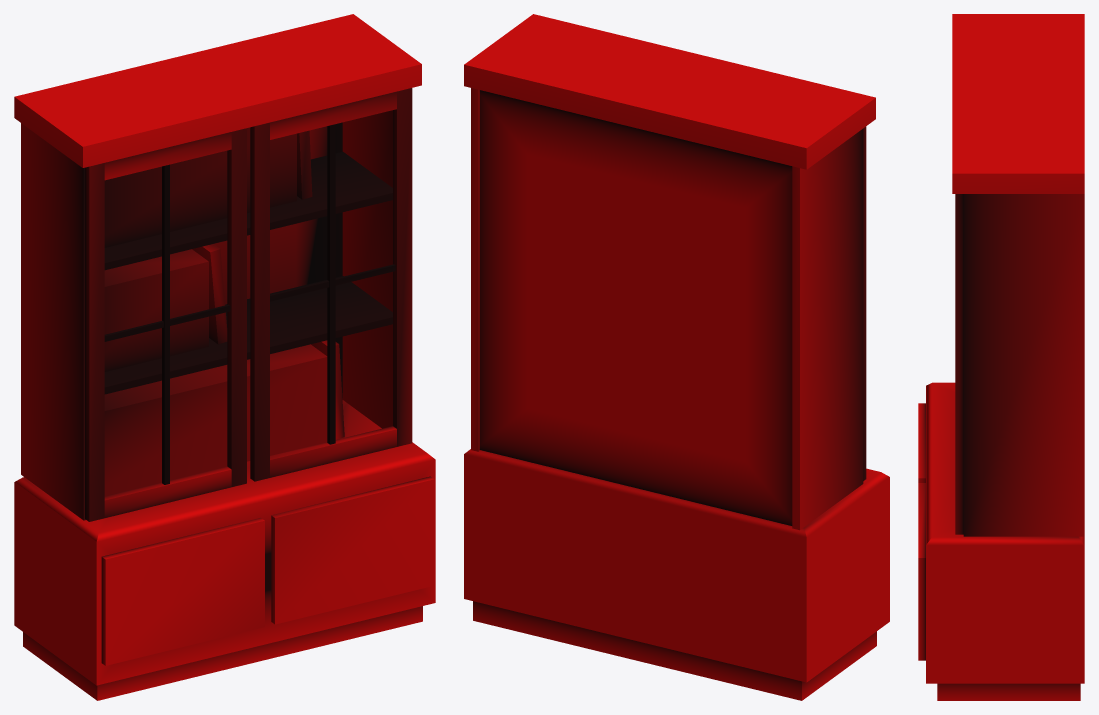
The model's file is CI_Office_Bookcase_Glazed_LOD1.glb.
3 renders of one model, left to right at view 1: azimuth 30°, elevation 25°; view 2: azimuth 150°, elevation 25°; view 3: azimuth 270°, elevation 25°, orthographic. The views are drawn at different scales.
Parts seen in each view (by area): view 1: CI_Office_Bookcase_Glazed_LOD1; view 2: CI_Office_Bookcase_Glazed_LOD1; view 3: CI_Office_Bookcase_Glazed_LOD1.
Boxes of the visible parts, box(x1,y1,x2,y2) form: CI_Office_Bookcase_Glazed_LOD1: box(14, 14, 435, 700); CI_Office_Bookcase_Glazed_LOD1: box(464, 14, 889, 700); CI_Office_Bookcase_Glazed_LOD1: box(918, 14, 1084, 700).
Bounding box in the file's own units: 1 × 1.55 × 0.44.
